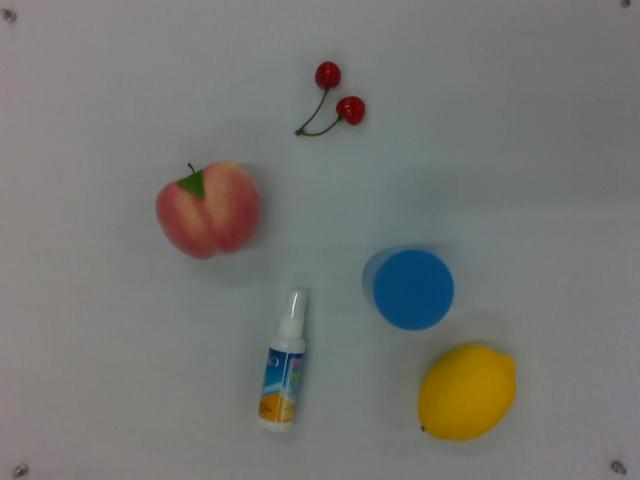cherry: (291, 55, 368, 145)
cylinder: (362, 241, 455, 334)
detergent: (254, 284, 312, 439)
lemon: (415, 339, 521, 445)
peach: (157, 156, 261, 261)
